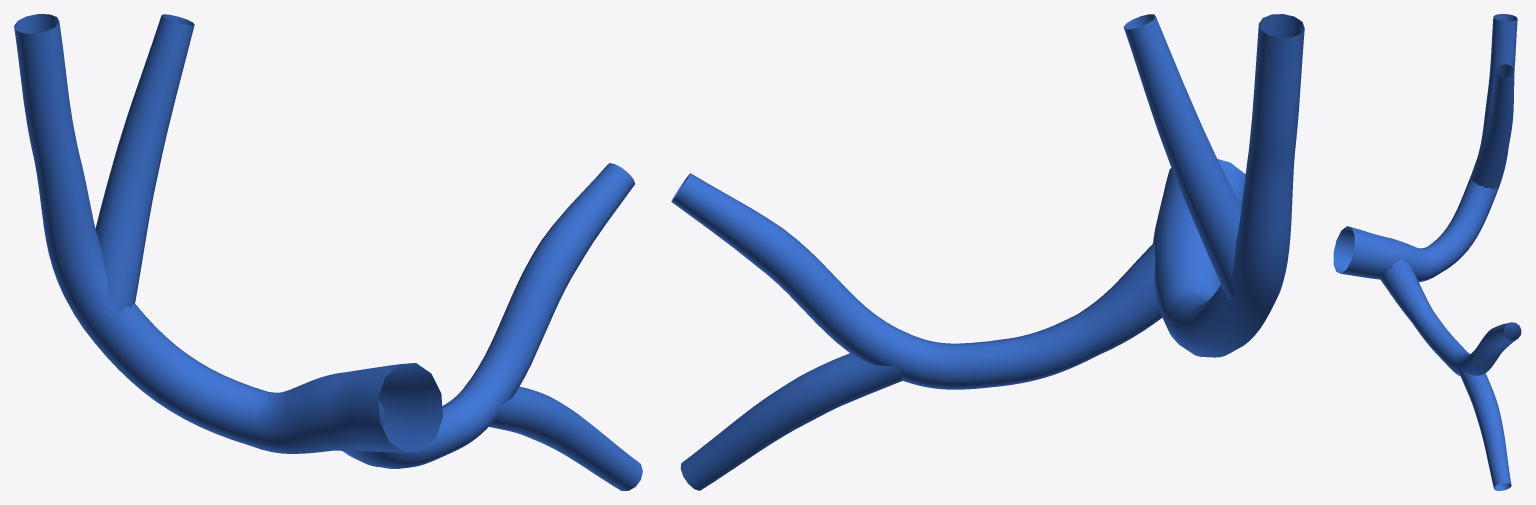
Rendered from circulatorio-superior-segmental-artery-of-left-lung.glb.
3 renders of one model, left to right at view 1: azimuth 30°, elevation 25°; view 2: azimuth 150°, elevation 25°; view 3: azimuth 270°, elevation 25°, orthographic. The views are drawn at different scales.
Visible parts, largest first — view 1: Superior segmental artery of left lung; view 2: Superior segmental artery of left lung; view 3: Superior segmental artery of left lung.
Part boxes in pixels (box(x1,y1,x2,y2)): Superior segmental artery of left lung: box(14, 14, 642, 490); Superior segmental artery of left lung: box(671, 14, 1304, 490); Superior segmental artery of left lung: box(1333, 14, 1521, 490).
Bounding box in the file's own units: 0.0623 × 0.0584 × 0.0307.
